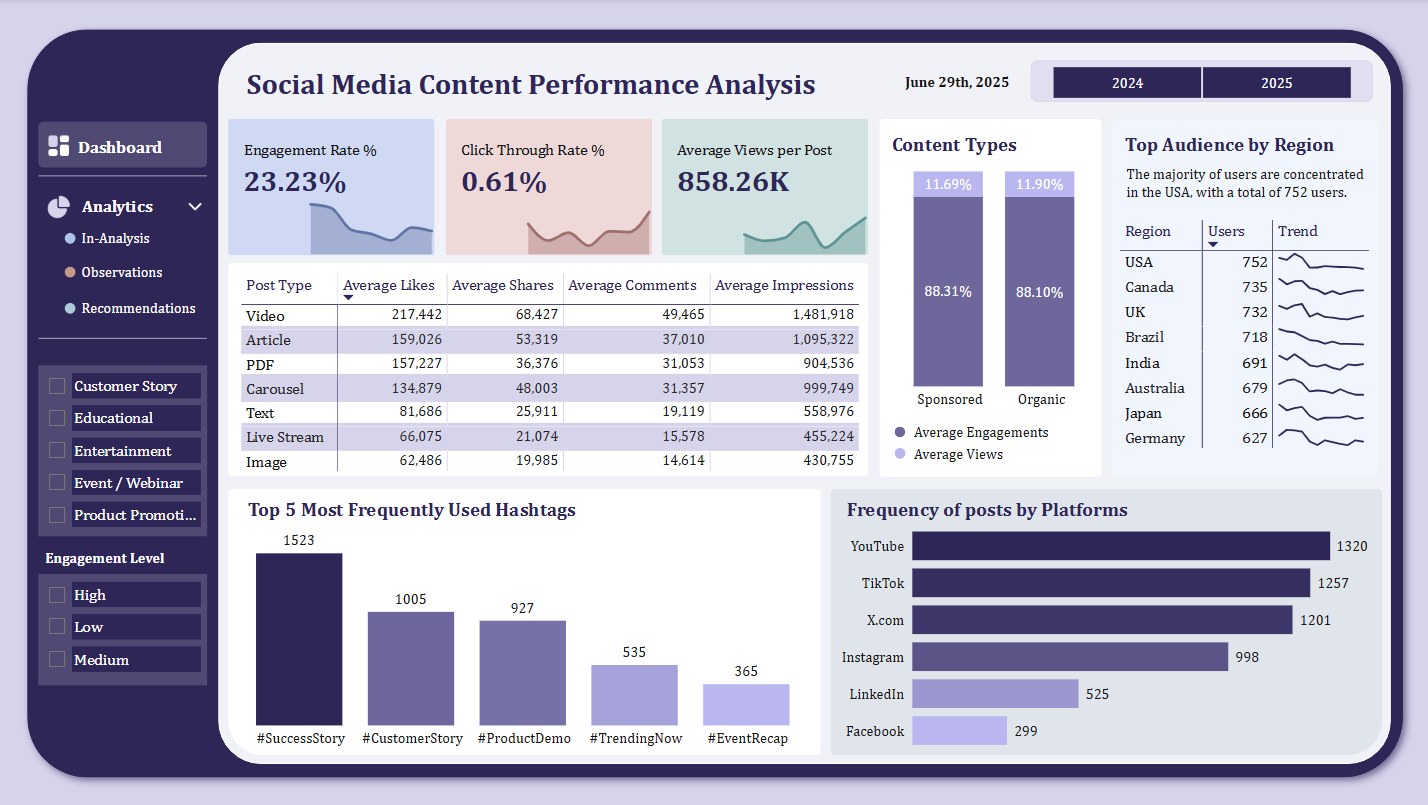

What the dashboard file says about the page in this screenshot:
{"tool":"powerbi","page":{"name":"Dashboard Visualization","canvas":[1600,900],"ordinal":1},"visuals":[{"type":"shape","box":[21.5,20.7,1557.1,858.5],"z":0},{"type":"shape","box":[246.3,48.7,1305.2,802.9],"z":1000},{"type":"shape","box":[928.1,545.5,613.6,296.4],"z":2000},{"type":"shape","box":[982.6,133.7,247.1,398.3],"z":3000},{"type":"shape","box":[257.4,545.5,659.6,296.4],"z":4000},{"type":"shape","box":[257.4,293.6,712.4,237.9],"z":5000},{"type":"shape","box":[257.4,133.6,229.6,151.7],"z":6000},{"type":"shape","box":[499.5,133.6,229.6,151.7],"z":7000},{"type":"shape","box":[740.3,133.6,229.6,151.7],"z":8000},{"type":"barChart","fields":{"Category":["Social Media Analysis.Platform"],"Y":["CountNonNull(Social Media Analysis.Platform)"]},"box":[928.1,563.5,603.9,289.4],"z":9000},{"type":"textbox","box":[940.6,551,538.5,44.5],"z":10000},{"type":"columnChart","fields":{"Category":["Social Media Analysis.Main_Hashtag"],"Y":["CountNonNull(Social Media Analysis.Main_Hashtag)"]},"box":[233.8,573.3,706.9,268.6],"z":11000},{"type":"textbox","box":[274.7,550.9,537.8,43.6],"z":12000},{"type":"pivotTable","fields":{"Rows":["Social Media Analysis.Post_Type"],"Values":["Avg(Social Media Analysis.Likes)","Avg(Social Media Analysis.Shares)","Avg(Social Media Analysis.Comments)","Avg(Social Media Analysis.Impressions)"]},"box":[267.4,300.9,702,231.1],"z":13000},{"type":"hundredPercentStackedColumnChart","fields":{"Category":["Social Media Analysis.Content_Type"],"Y":["Avg(Social Media Analysis.Views)","Avg(Social Media Analysis.Engagement)"]},"box":[924.4,178.8,376.5,286.3],"z":14000},{"type":"shape","box":[1241.2,133.6,296.4,398],"z":15000},{"type":"textbox","box":[990.7,144.7,261.6,41.7],"z":16000},{"type":"shape","box":[999.7,476.5,12,12],"z":17000},{"type":"textbox","box":[1015.8,467.5,219.9,41.7],"z":18000},{"type":"shape","box":[999.7,500.1,12.5,12.5],"z":19000},{"type":"textbox","box":[1015.8,493.2,179.5,34.8],"z":20000},{"type":"textbox","box":[1250.9,144.7,261.6,41.7],"z":21000},{"type":"pivotTable","fields":{"Rows":["Social Media Analysis.Region"],"Values":["CountNonNull(Social Media Analysis.Region)","SparklineData(CountNonNull(Social Media Analysis.Region)_[Calendar.Month])"]},"box":[1245.4,240.7,289.4,278.3],"z":22000},{"type":"textbox","box":[1252.3,180.9,279.7,77.9],"z":23000},{"type":"textbox","box":[272.7,71,697.1,47.3],"z":24000},{"type":"textbox","box":[89.1,214.1,125.2,41.7],"z":25000},{"type":"textbox","box":[89.1,252.3,150.3,41.7],"z":26000},{"type":"textbox","box":[89.4,289.8,150.3,41.7],"z":27000},{"type":"textbox","box":[89.4,330.2,150.3,41.7],"z":28000},{"type":"shape","box":[74.7,260.8,12.5,12.5],"z":29000},{"type":"shape","box":[75.1,298.2,12.5,12.5],"z":30000},{"type":"shape","box":[75.1,338.5,12.5,12.5],"z":31000},{"type":"shape","box":[45.9,136.2,187.8,51.5],"z":32000},{"type":"textbox","box":[84.9,148.7,128,39],"z":33000},{"type":"image","box":[48.7,143.2,40.4,40.4],"z":34000},{"type":"shape","box":[45.9,186.3,187.8,20.9],"z":35000},{"type":"image","box":[207.3,216.9,26.4,26.4],"z":36000},{"type":"image","box":[48.7,211.4,40,40],"z":37000},{"type":"shape","box":[45.9,367.3,187.8,20.9],"z":38000},{"type":"slicer","fields":{"Values":["Social Media Analysis.Content_Category"]},"box":[45.9,407.7,187.8,190.6],"z":39000},{"type":"textbox","box":[1006,77.9,144.7,33.4],"z":40000},{"type":"textbox","box":[48.7,608.1,185.1,41.7],"z":41000},{"type":"slicer","fields":{"Values":["Social Media Analysis.Engagement_Level"]},"box":[45.9,640.1,187.8,123.8],"z":42000},{"type":"slicer","fields":{"Values":["Calendar.Year"]},"box":[1151.2,68.3,380.8,46.5],"z":43000},{"type":"cardVisual","fields":{"Data":["Dax Measures.Average Views per Post"]},"box":[740.3,140.5,215.7,87.7],"z":44000},{"type":"cardVisual","fields":{"Data":["Dax Measures.Engagement Rate %"]},"box":[257.4,140.5,217.1,87.7],"z":45000},{"type":"cardVisual","fields":{"Data":["Dax Measures.Click Through Rate %"]},"box":[499.5,140.5,215.7,87.7],"z":46000},{"type":"lineChart","fields":{"Y":["Dax Measures.Average Views per Post"],"Category":["Calendar.Weekday"]},"box":[818.2,211.5,162.8,77.9],"z":47000},{"type":"lineChart","fields":{"Y":["Dax Measures.Click Through Rate %"],"Category":["Calendar.Weekday"]},"box":[577.5,211.5,162.8,77.9],"z":48000},{"type":"lineChart","fields":{"Y":["Dax Measures.Engagement Rate %"],"Category":["Calendar.Weekday"]},"box":[335.3,211.5,162.8,77.9],"z":49000}]}

Visuals, with their boxes on the page's 1600x900 design canvas (x1, y1, x2, y2). These are canvas units, not pixel positions in the 1428x805 screenshot, which may show the page scaled, cropped or inside an application window:
shape: bbox=[22, 21, 1579, 879]
shape: bbox=[246, 49, 1552, 852]
shape: bbox=[928, 546, 1542, 842]
shape: bbox=[983, 134, 1230, 532]
shape: bbox=[257, 546, 917, 842]
shape: bbox=[257, 294, 970, 532]
shape: bbox=[257, 134, 487, 285]
shape: bbox=[500, 134, 729, 285]
shape: bbox=[740, 134, 970, 285]
barChart - Social Media Analysis.Platform x CountNonNull(Social Media Analysis.Platform): bbox=[928, 564, 1532, 853]
textbox: bbox=[941, 551, 1479, 596]
columnChart - Social Media Analysis.Main_Hashtag x CountNonNull(Social Media Analysis.Main_Hashtag): bbox=[234, 573, 941, 842]
textbox: bbox=[275, 551, 812, 594]
pivotTable - Social Media Analysis.Post_Type x Avg(Social Media Analysis.Likes): bbox=[267, 301, 969, 532]
hundredPercentStackedColumnChart - Social Media Analysis.Content_Type x Avg(Social Media Analysis.Views): bbox=[924, 179, 1301, 465]
shape: bbox=[1241, 134, 1538, 532]
textbox: bbox=[991, 145, 1252, 186]
shape: bbox=[1000, 476, 1012, 488]
textbox: bbox=[1016, 468, 1236, 509]
shape: bbox=[1000, 500, 1012, 513]
textbox: bbox=[1016, 493, 1195, 528]
textbox: bbox=[1251, 145, 1512, 186]
pivotTable - Social Media Analysis.Region x CountNonNull(Social Media Analysis.Region): bbox=[1245, 241, 1535, 519]
textbox: bbox=[1252, 181, 1532, 259]
textbox: bbox=[273, 71, 970, 118]
textbox: bbox=[89, 214, 214, 256]
textbox: bbox=[89, 252, 239, 294]
textbox: bbox=[89, 290, 240, 332]
textbox: bbox=[89, 330, 240, 372]
shape: bbox=[75, 261, 87, 273]
shape: bbox=[75, 298, 88, 311]
shape: bbox=[75, 338, 88, 351]
shape: bbox=[46, 136, 234, 188]
textbox: bbox=[85, 149, 213, 188]
image: bbox=[49, 143, 89, 184]
shape: bbox=[46, 186, 234, 207]
image: bbox=[207, 217, 234, 243]
image: bbox=[49, 211, 89, 251]
shape: bbox=[46, 367, 234, 388]
slicer - Social Media Analysis.Content_Category: bbox=[46, 408, 234, 598]
textbox: bbox=[1006, 78, 1151, 111]
textbox: bbox=[49, 608, 234, 650]
slicer - Social Media Analysis.Engagement_Level: bbox=[46, 640, 234, 764]
slicer - Calendar.Year: bbox=[1151, 68, 1532, 115]
cardVisual - Dax Measures.Average Views per Post: bbox=[740, 140, 956, 228]
cardVisual - Dax Measures.Engagement Rate %: bbox=[257, 140, 474, 228]
cardVisual - Dax Measures.Click Through Rate %: bbox=[500, 140, 715, 228]
lineChart - Dax Measures.Average Views per Post x Calendar.Weekday: bbox=[818, 212, 981, 289]
lineChart - Dax Measures.Click Through Rate % x Calendar.Weekday: bbox=[578, 212, 740, 289]
lineChart - Dax Measures.Engagement Rate % x Calendar.Weekday: bbox=[335, 212, 498, 289]
